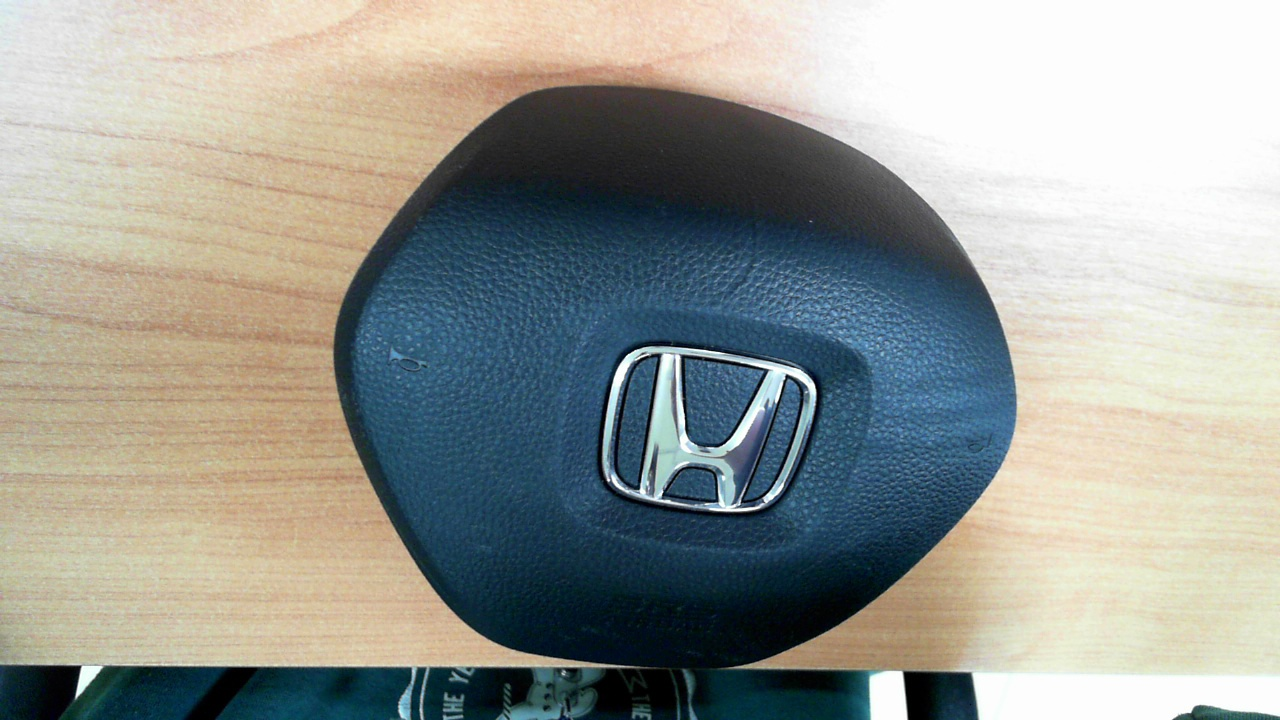Airbag: (333, 83, 1019, 673)
Honda: (601, 345, 817, 513)
